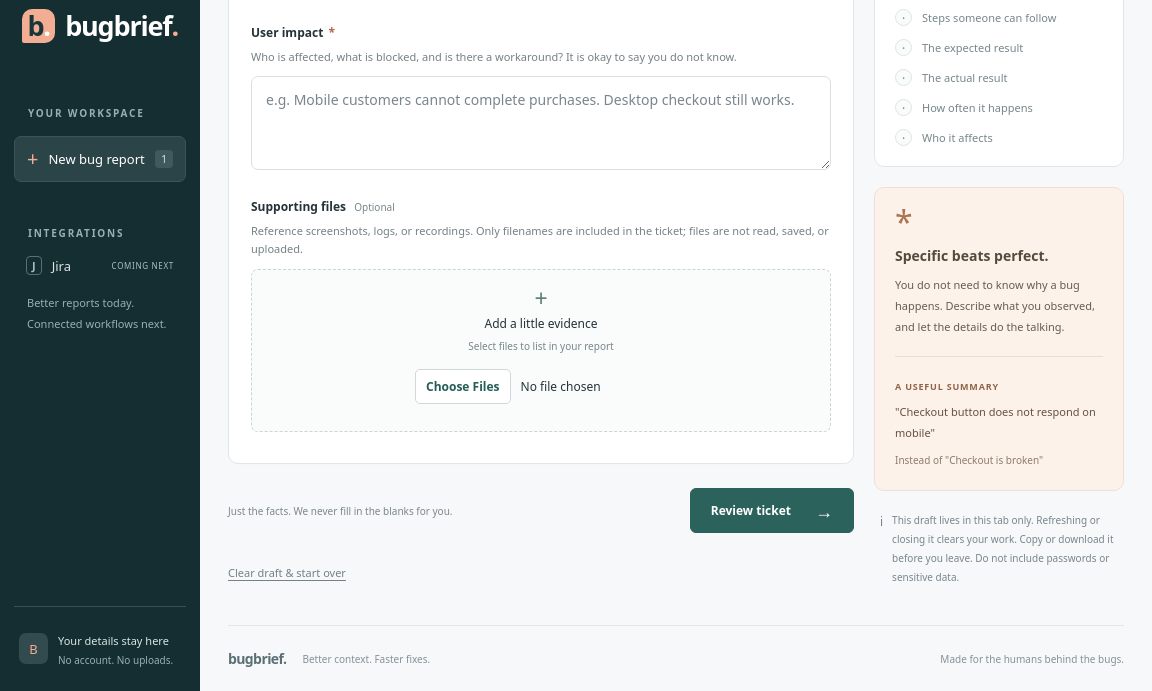
Test: bug report workflow › blocks an incomplete report and focuses the first missing field
(page scrolled)
Click the button "Review ticket →".
click(772, 511)  # box 690,488 -> 854,533
(page scrolled)
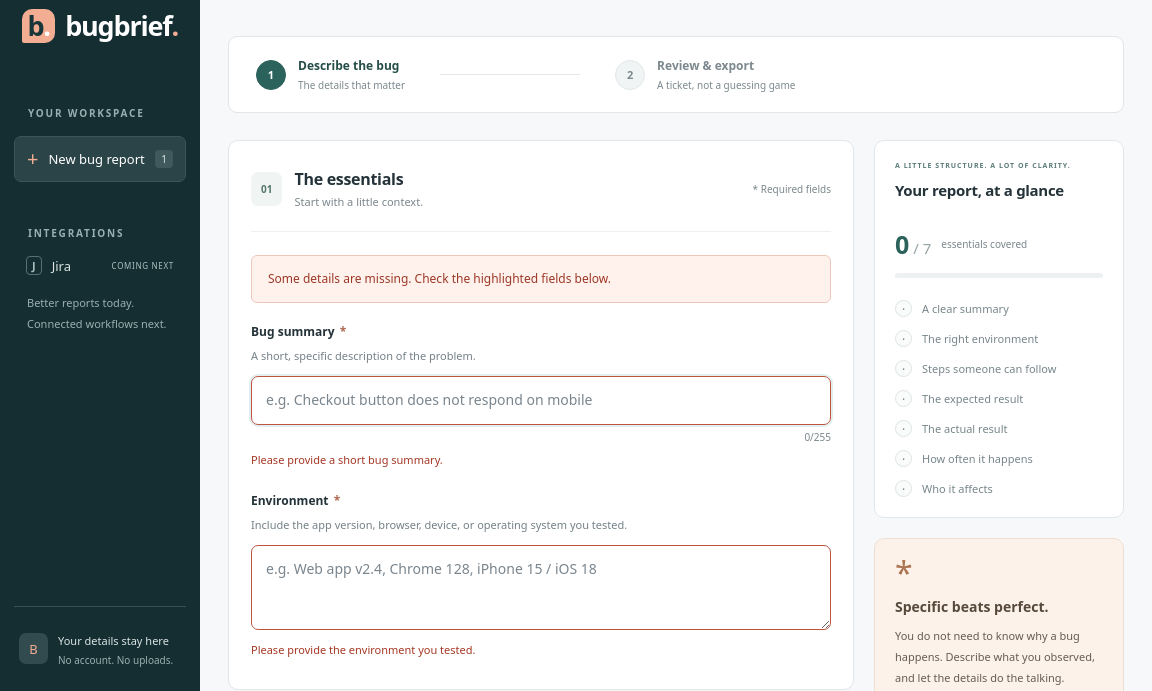
Result: the message shows "Some details are missing" at 268,270 -> 611,287
